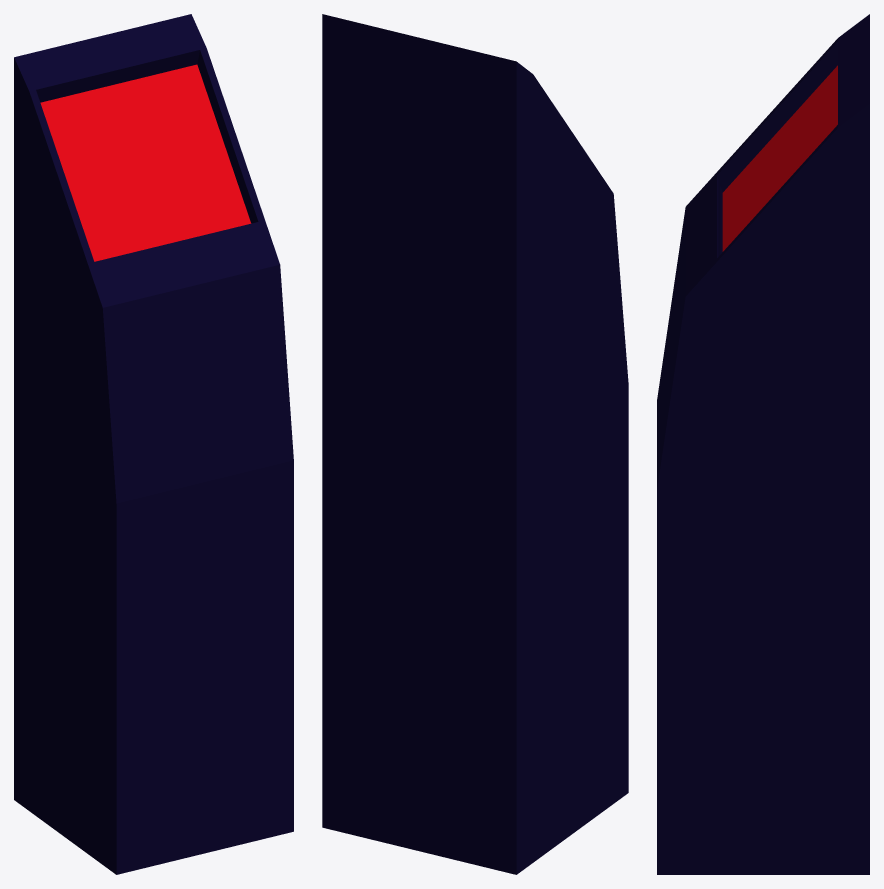
File: Stand.fbx
3 views of the same model, side by side, from view 1: azimuth 30°, elevation 25°; view 2: azimuth 150°, elevation 25°; view 3: azimuth 270°, elevation 25° (orthographic). The views are drawn at different scales.
Visible parts, largest first — view 1: Stand; view 2: Stand; view 3: Stand.
Part boxes in pixels (x1=…): Stand: x1=14, y1=14, x2=293, y2=874; Stand: x1=322, y1=14, x2=628, y2=874; Stand: x1=657, y1=14, x2=869, y2=874.
Bounding box in the file's own units: 100 × 400 × 100.
